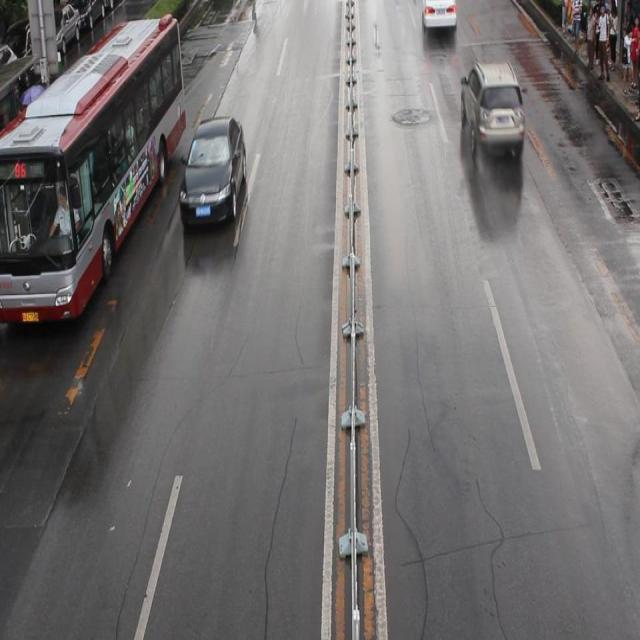car: (181, 118, 246, 228), (459, 61, 524, 150), (422, 1, 456, 29)
van: (1, 18, 186, 321)
